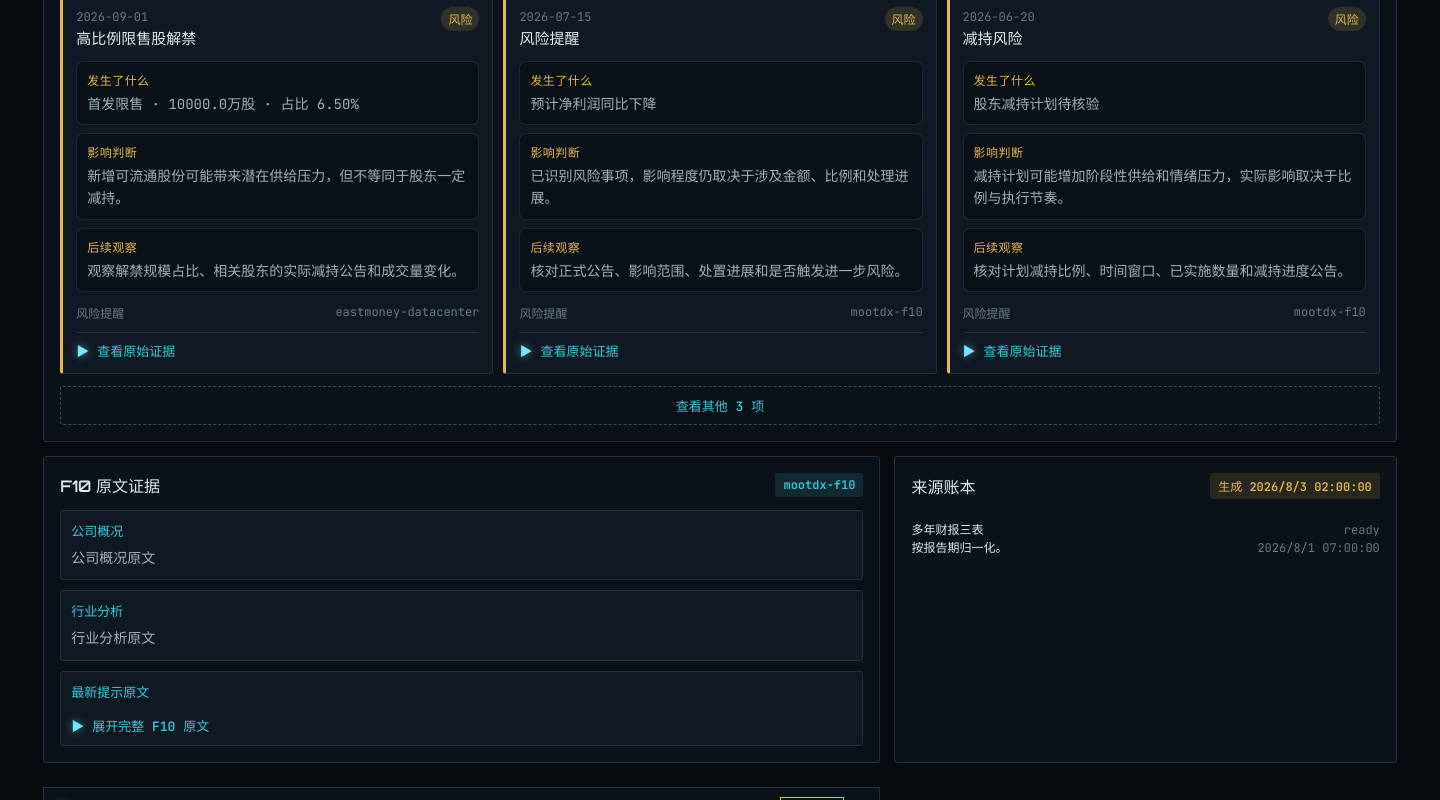
CompanyResearchView › renders structured evidence as a summary, filterable cards and expandable raw text
The image size is (1440, 800).
(page scrolled)
expect the element "催化与最新提示" shows "预计净利润同比下降": met, box [530,94,656,112]
expect the element "催化与最新提示" shows "高比例限售股解禁": met, box [76,29,196,48]
Step 1. Click the button "查看其他 3 项" → coordinates (720, 406), box [60,386,1380,425]
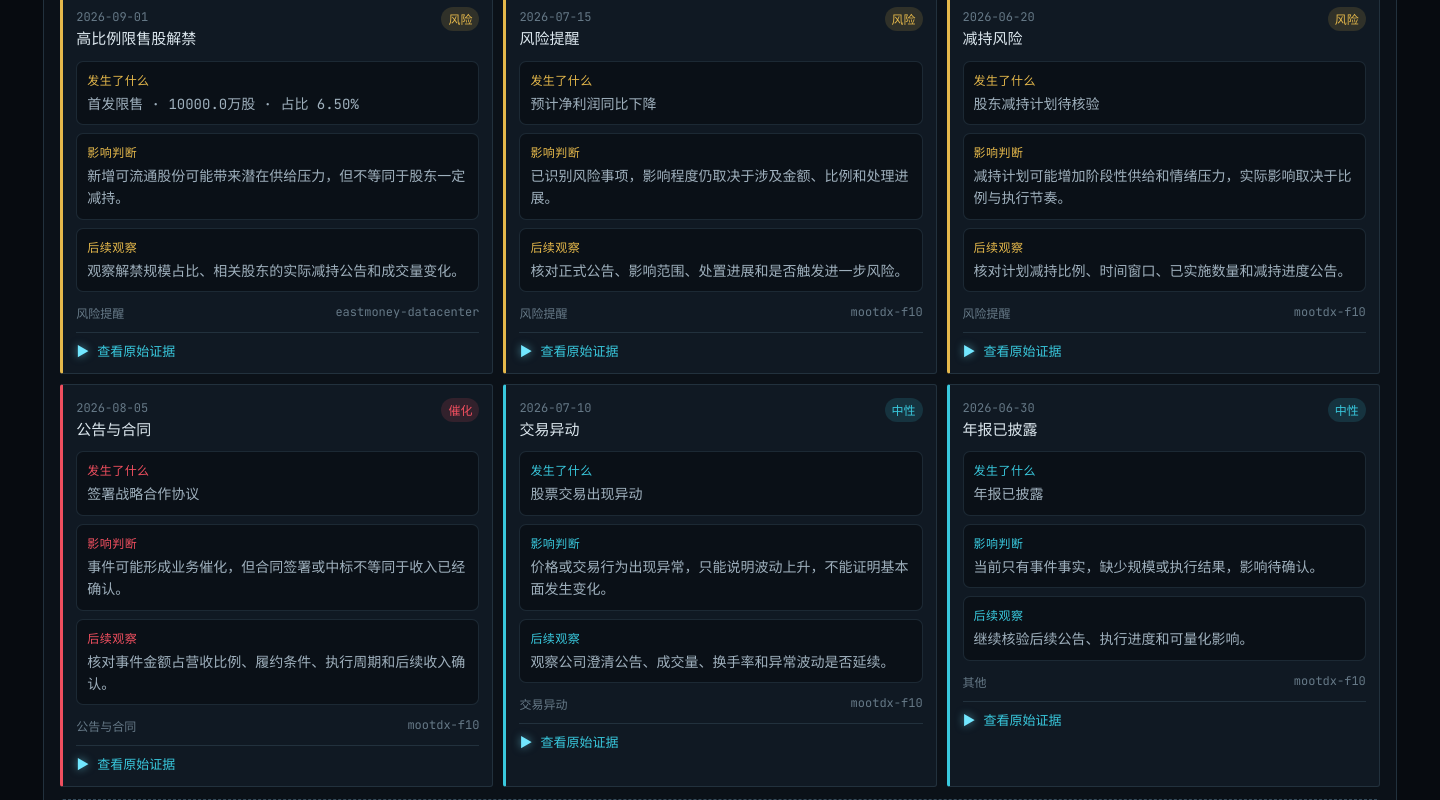
expect the element "催化与最新提示" shows "签署战略合作协议": met, box [87,485,199,503]
Step 2. Click the heading "查看原始证据" below "核对正式公告、影响范围、处置进展和是否触发进一步风险。" → coordinates (579, 352), box [540,343,618,360]
(page scrolled)
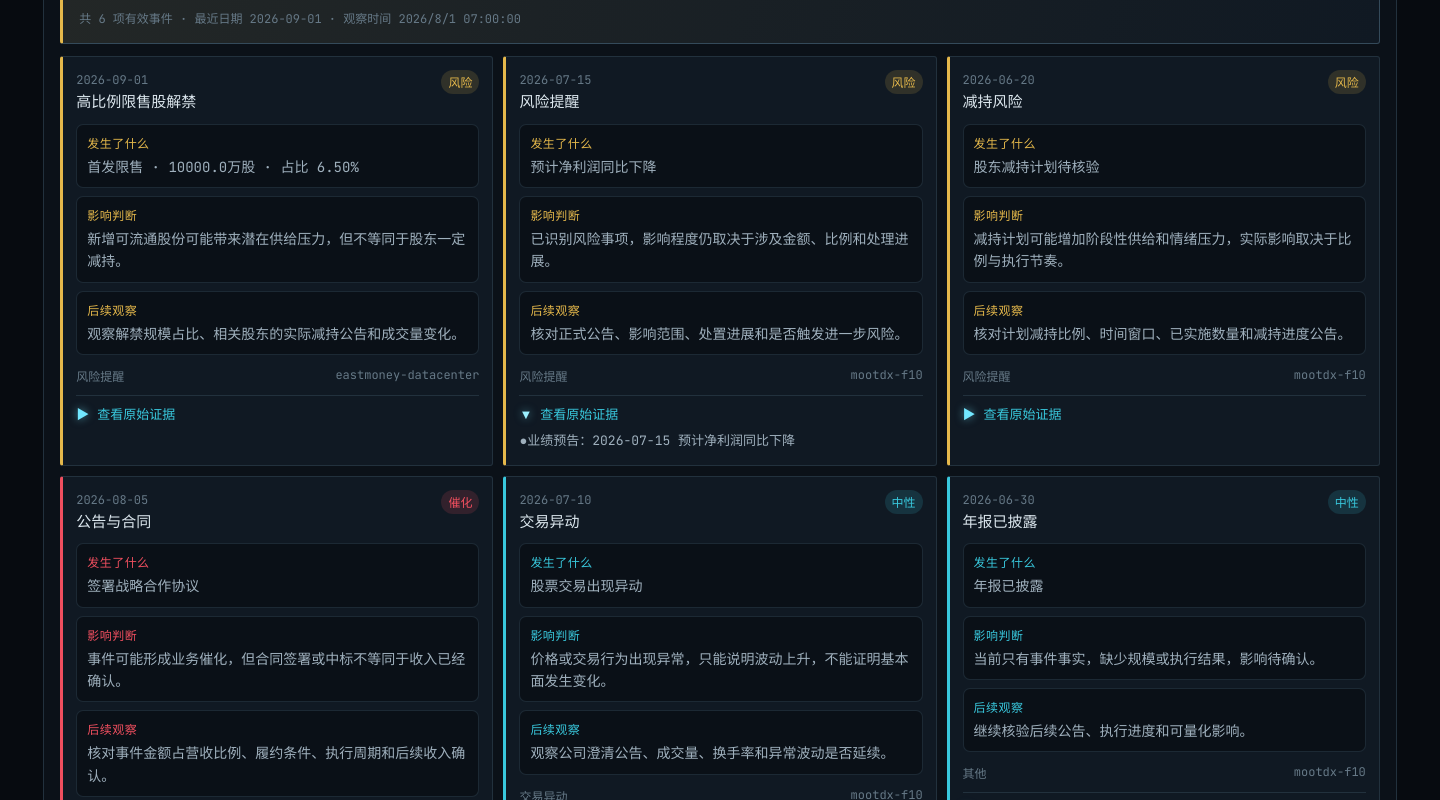
expect the element "催化与最新提示" shows "●业绩预告：2026-07-15 预计净利润同比下降": met, box [519,432,795,449]
